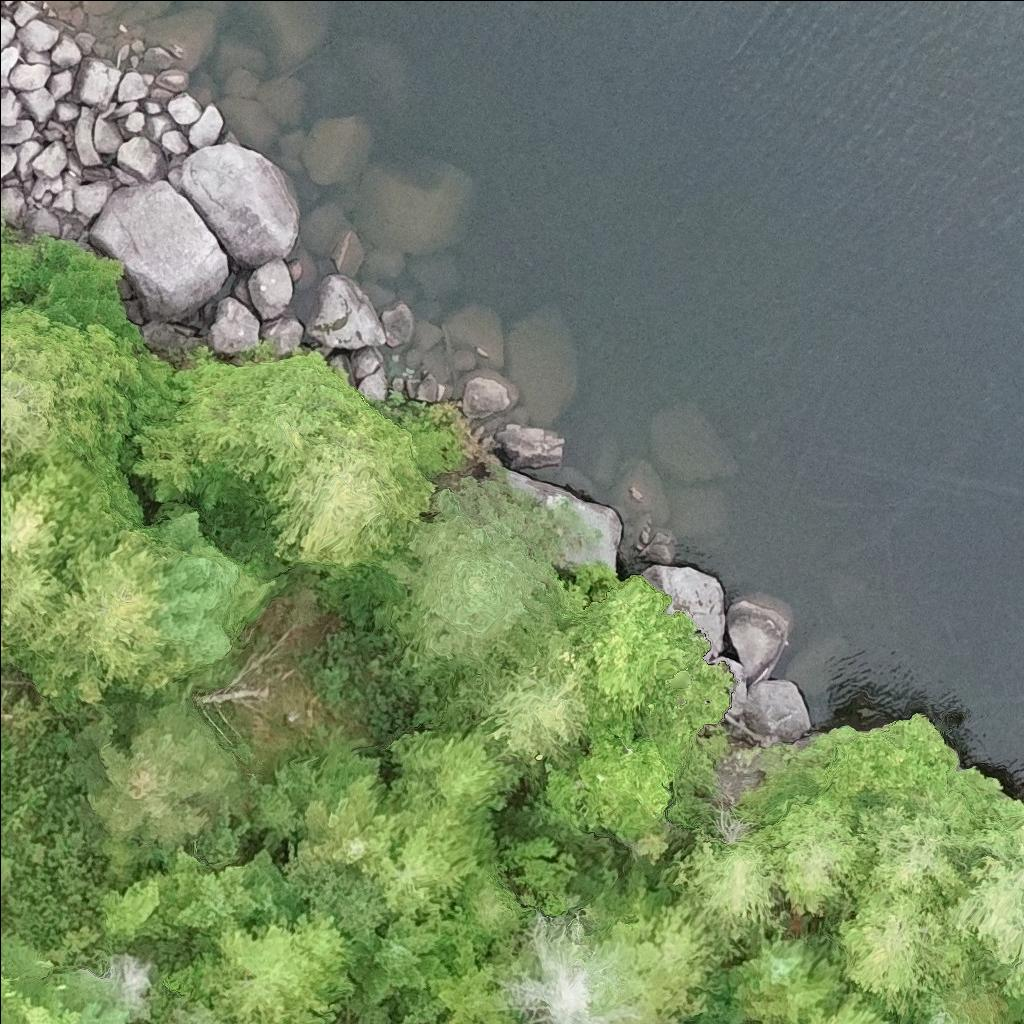crown: (10, 525, 191, 715), (259, 407, 434, 573), (71, 687, 239, 856), (169, 352, 368, 494), (0, 304, 143, 471), (590, 861, 724, 1023), (835, 873, 979, 1019), (357, 772, 503, 915), (196, 909, 356, 1023), (580, 574, 706, 714), (139, 501, 240, 671), (492, 908, 641, 1023), (668, 828, 788, 959), (0, 449, 115, 582), (949, 818, 1023, 1006), (536, 737, 671, 840), (853, 802, 986, 906), (813, 713, 958, 807), (761, 790, 869, 915), (387, 721, 525, 818), (477, 654, 589, 772), (160, 844, 304, 931), (294, 756, 383, 869), (350, 914, 450, 1005), (736, 952, 858, 1023), (425, 939, 519, 1023), (0, 558, 69, 669), (455, 861, 532, 948), (729, 926, 825, 991), (0, 969, 89, 1023), (802, 987, 894, 1023), (914, 983, 984, 1023), (0, 1002, 21, 1023)
